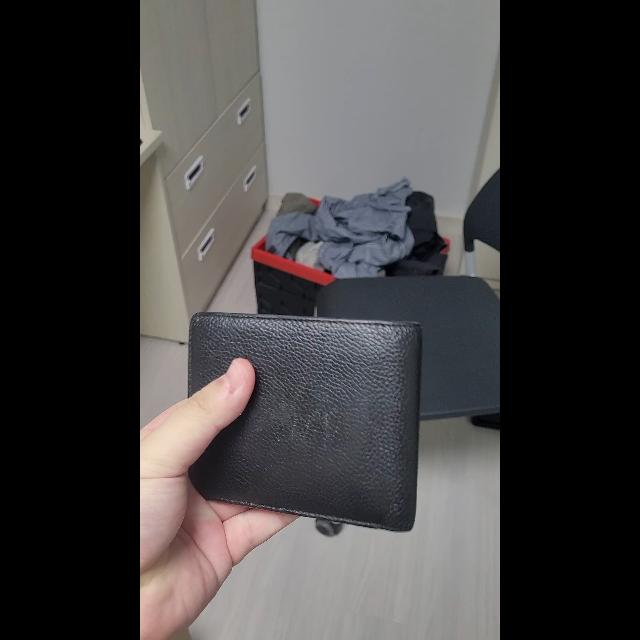WALLET: (188, 313, 422, 533)
